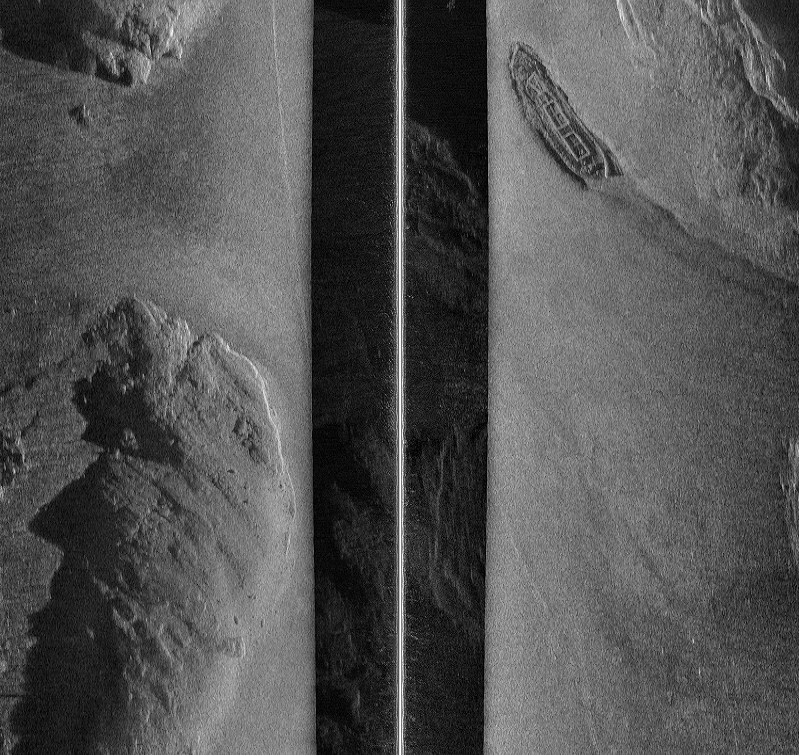ship: (508, 42, 611, 180)
